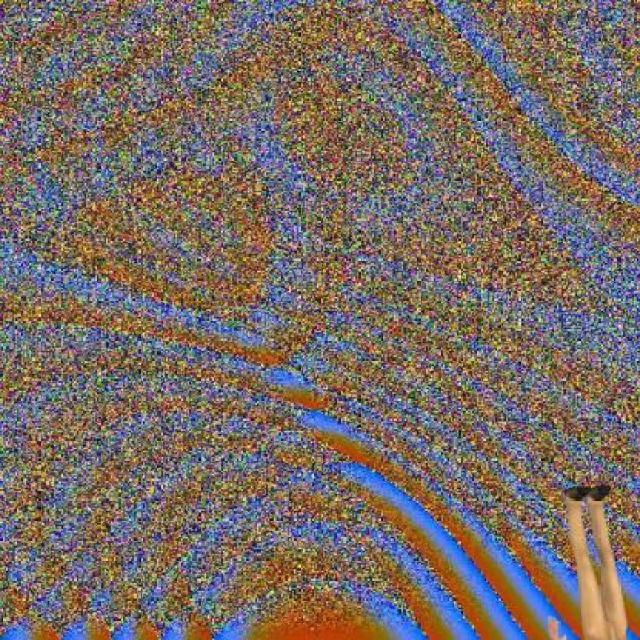Person: (543, 480, 632, 638)
